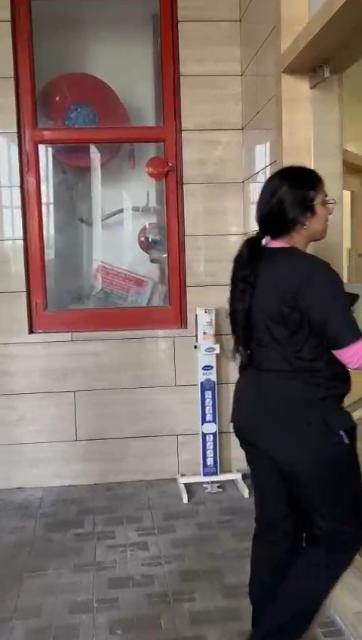floor: (0, 485, 248, 640)
moving-obj: (196, 126, 361, 640)
wall: (0, 332, 178, 483), (185, 3, 237, 296), (0, 1, 14, 331)
